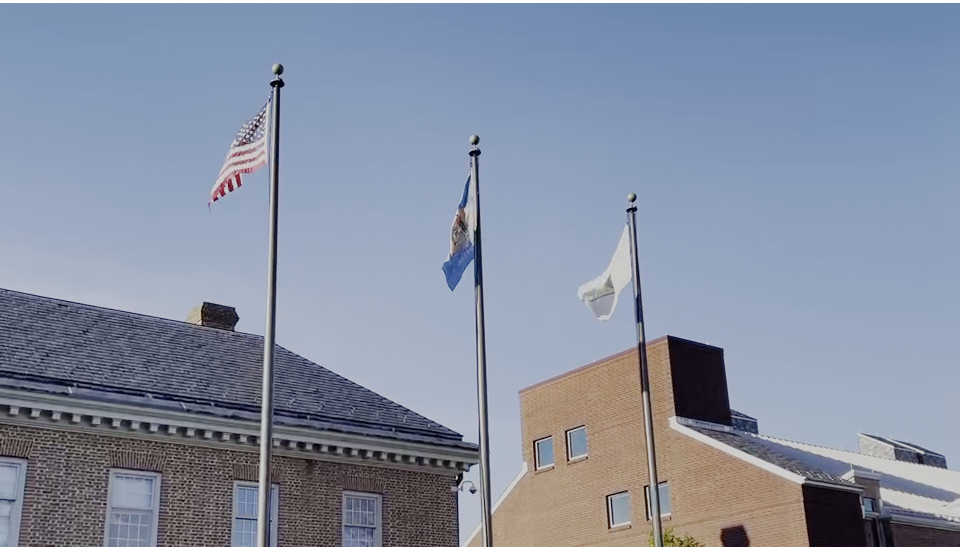America flag: (215, 90, 274, 203)
Delaware flag: (446, 171, 481, 291)
